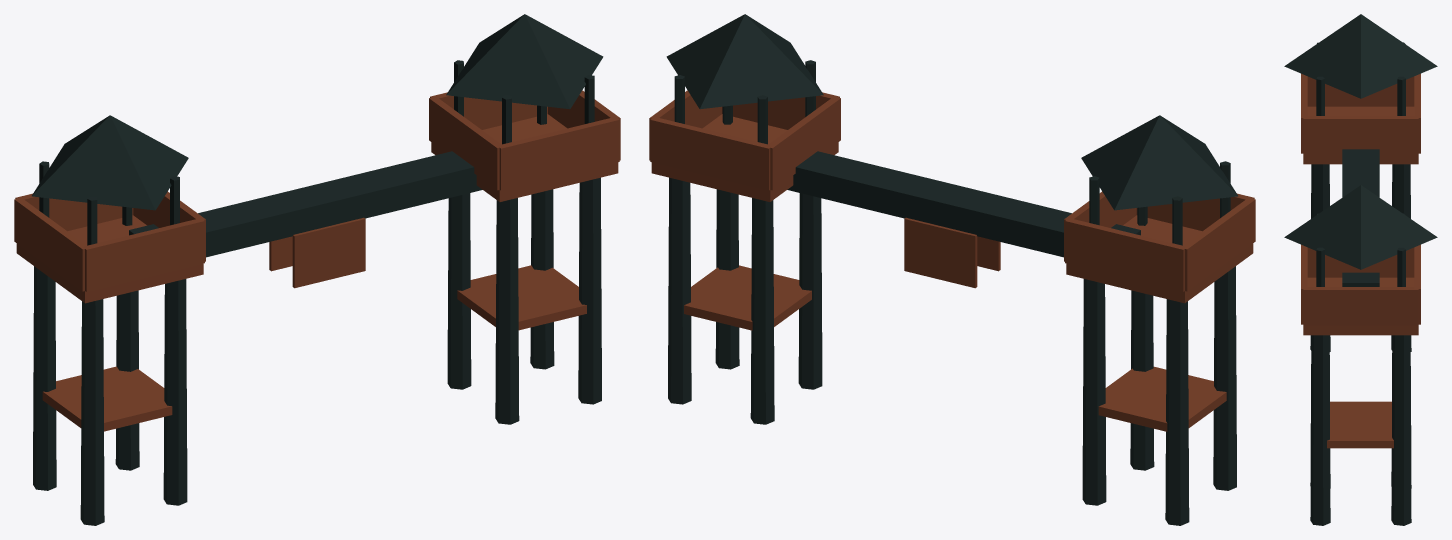
Rendered from bird_gate_broken.glb.
3 views of the same model, side by side, from view 1: azimuth 30°, elevation 25°; view 2: azimuth 150°, elevation 25°; view 3: azimuth 270°, elevation 25° (orthographic). The views are drawn at different scales.
Parts seen in each view (by area): view 1: bird_gate_piece13, bird_gate_piece4, bird_gate_piece1, bird_gate_piece2, bird_gate_piece9, bird_gate_piece0, bird_gate_piece7, bird_gate_piece3, bird_gate_piece10, bird_gate_piece6, bird_gate_piece11, bird_gate_piece12; view 2: bird_gate_piece1, bird_gate_piece13, bird_gate_piece9, bird_gate_piece2, bird_gate_piece4, bird_gate_piece6, bird_gate_piece3, bird_gate_piece0, bird_gate_piece10, bird_gate_piece7, bird_gate_piece11, bird_gate_piece12 (+1 smaller); view 3: bird_gate_piece9, bird_gate_piece1, bird_gate_piece3, bird_gate_piece6, bird_gate_piece4, bird_gate_piece2, bird_gate_piece13, bird_gate_piece0, bird_gate_piece7, bird_gate_piece10.
Part boxes in pixels (x1=…): bird_gate_piece13: x1=33, y1=209, x2=205, y2=525; bird_gate_piece4: x1=446, y1=135, x2=601, y2=424; bird_gate_piece1: x1=14, y1=115, x2=170, y2=397; bird_gate_piece2: x1=338, y1=23, x2=581, y2=268; bird_gate_piece9: x1=429, y1=30, x2=620, y2=218; bird_gate_piece0: x1=33, y1=184, x2=166, y2=459; bird_gate_piece7: x1=315, y1=14, x2=561, y2=226; bird_gate_piece3: x1=103, y1=143, x2=256, y2=375; bird_gate_piece10: x1=219, y1=184, x2=346, y2=265; bird_gate_piece6: x1=448, y1=106, x2=601, y2=404; bird_gate_piece11: x1=271, y1=177, x2=357, y2=288; bird_gate_piece12: x1=447, y1=288, x2=471, y2=389; bird_gate_piece1: x1=1067, y1=115, x2=1238, y2=448; bird_gate_piece13: x1=1082, y1=202, x2=1236, y2=525; bird_gate_piece9: x1=649, y1=30, x2=789, y2=260; bird_gate_piece2: x1=715, y1=25, x2=912, y2=214; bird_gate_piece4: x1=707, y1=100, x2=822, y2=389; bird_gate_piece6: x1=649, y1=120, x2=770, y2=404; bird_gate_piece3: x1=1029, y1=143, x2=1147, y2=453; bird_gate_piece0: x1=1142, y1=136, x2=1255, y2=501; bird_gate_piece10: x1=933, y1=182, x2=1035, y2=250; bird_gate_piece7: x1=725, y1=14, x2=944, y2=217; bird_gate_piece11: x1=888, y1=192, x2=1000, y2=286; bird_gate_piece12: x1=750, y1=328, x2=774, y2=424; bird_gate_piece9: x1=1301, y1=215, x2=1437, y2=390; bird_gate_piece1: x1=1305, y1=14, x2=1437, y2=218; bird_gate_piece3: x1=1316, y1=70, x2=1420, y2=218; bird_gate_piece6: x1=1310, y1=290, x2=1420, y2=525; bird_gate_piece4: x1=1310, y1=273, x2=1410, y2=510; bird_gate_piece2: x1=1284, y1=202, x2=1414, y2=286; bird_gate_piece13: x1=1301, y1=95, x2=1411, y2=351; bird_gate_piece0: x1=1284, y1=52, x2=1347, y2=115; bird_gate_piece7: x1=1299, y1=185, x2=1385, y2=227; bird_gate_piece10: x1=1342, y1=173, x2=1379, y2=197.
Bounding box in the file's own units: 4.83 × 3.05 × 1.33.
